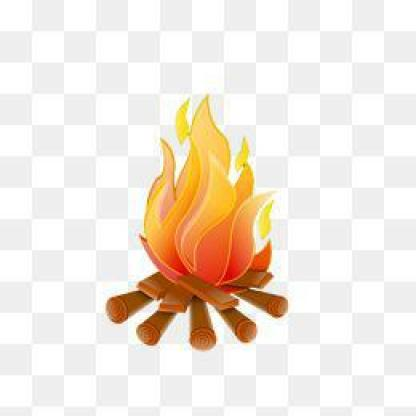fire: (116, 72, 288, 283)
